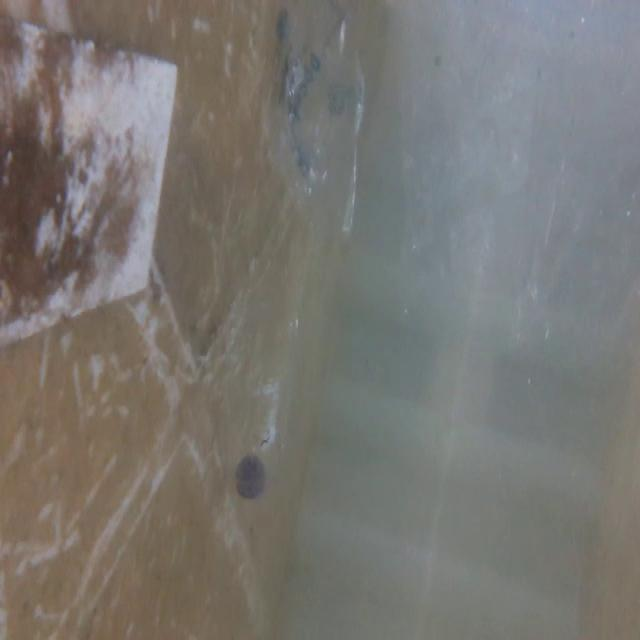plastic bags: (258, 7, 380, 227)
plastic bottle: (236, 239, 306, 512)
